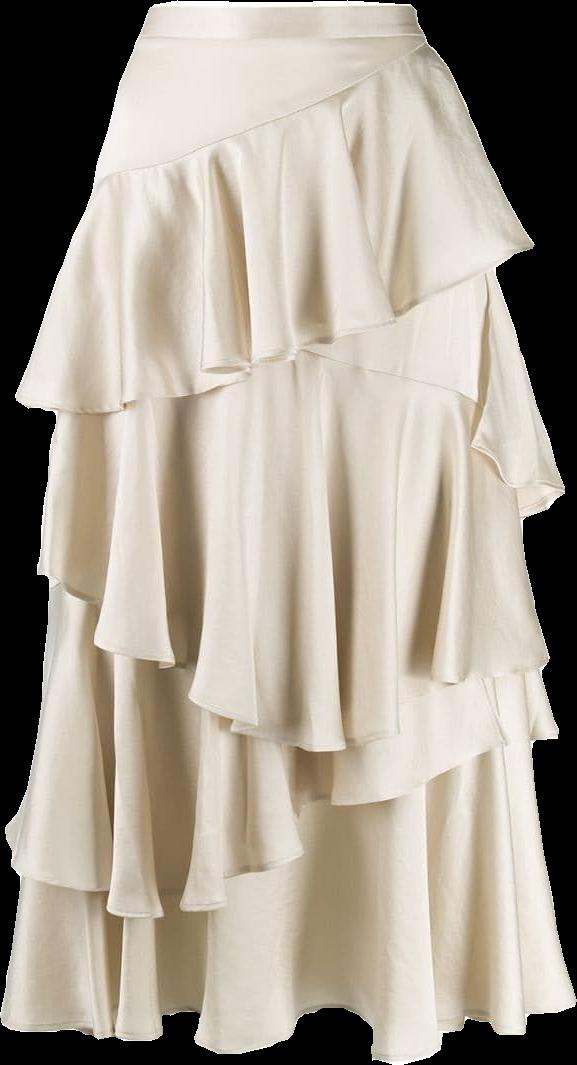Hemline: (0, 729, 565, 927), (32, 558, 553, 761), (7, 240, 539, 419), (0, 993, 576, 1064)
Waistline: (85, 34, 436, 191), (129, 27, 429, 47), (140, 0, 413, 15)
